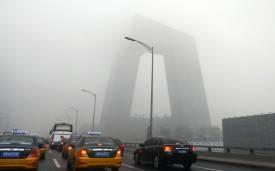bus: (48, 122, 73, 149)
car: (132, 137, 199, 170), (70, 132, 123, 171), (1, 129, 43, 171), (20, 133, 50, 160), (95, 135, 126, 161), (62, 134, 90, 160)
